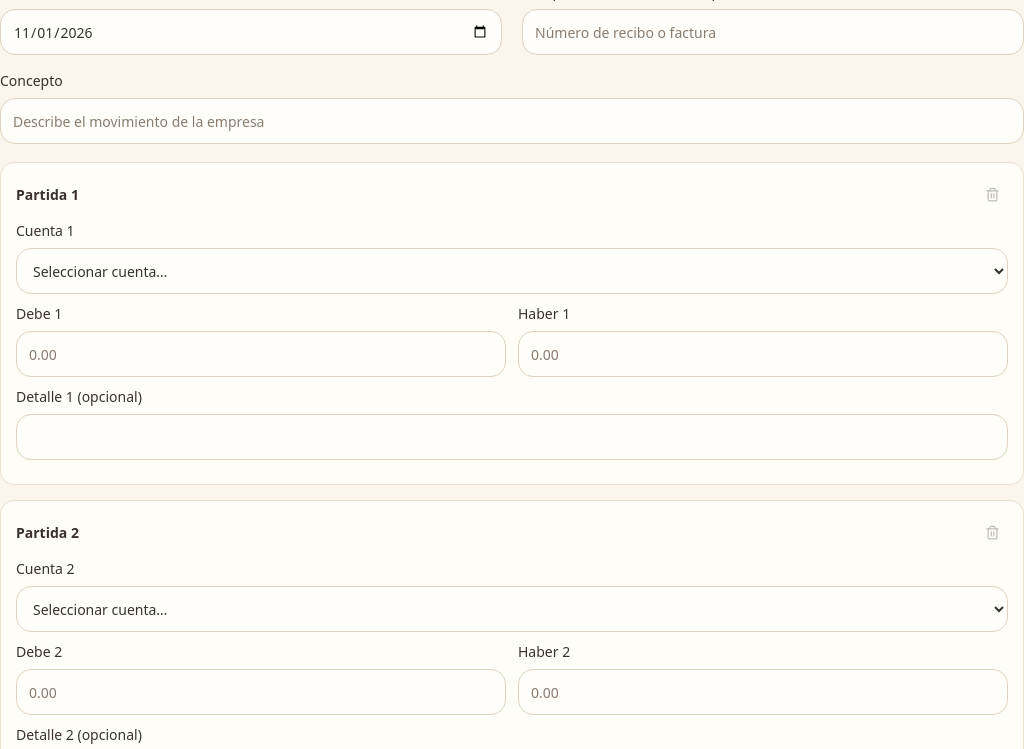
Test: Registro en el libro diario › impide contabilizar partidas descuadradas
The width and height of the screenshot is (1024, 749).
Type "Pago de alquiler" into the field labelled "Concepto".
click(512, 121); type("Pago de alquiler")  # box [0,98,1023,144]
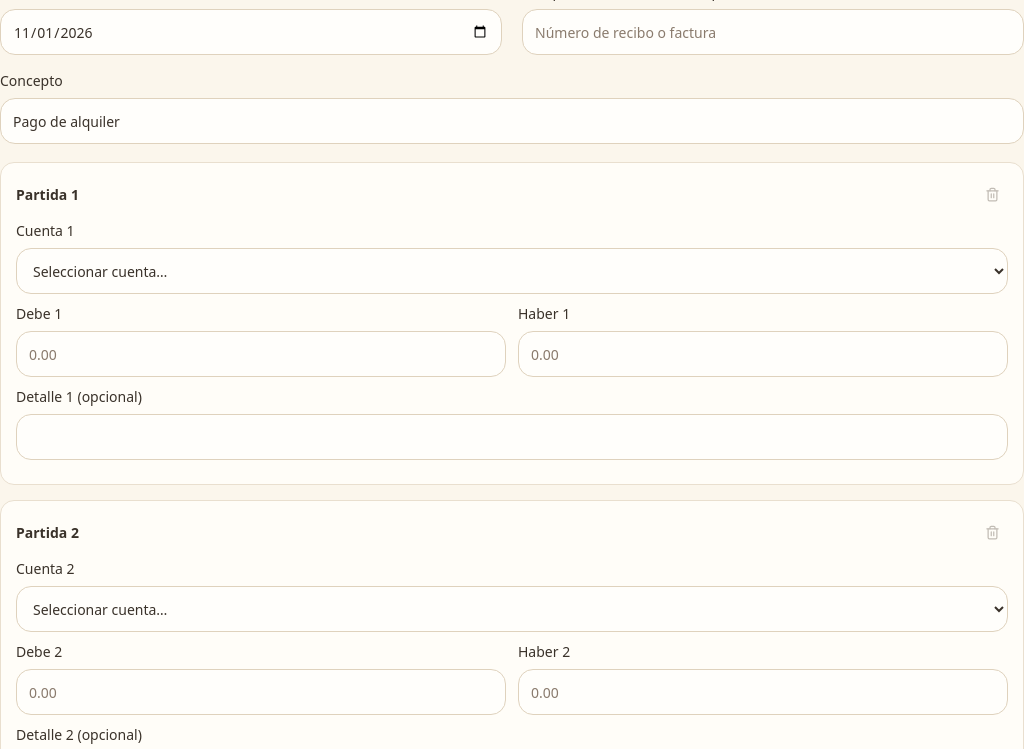
Select "5101 · Alquiler" in the dropdown labelled "Cuenta 1" at {"x": 512, "y": 271}, box [16,248,1008,294]
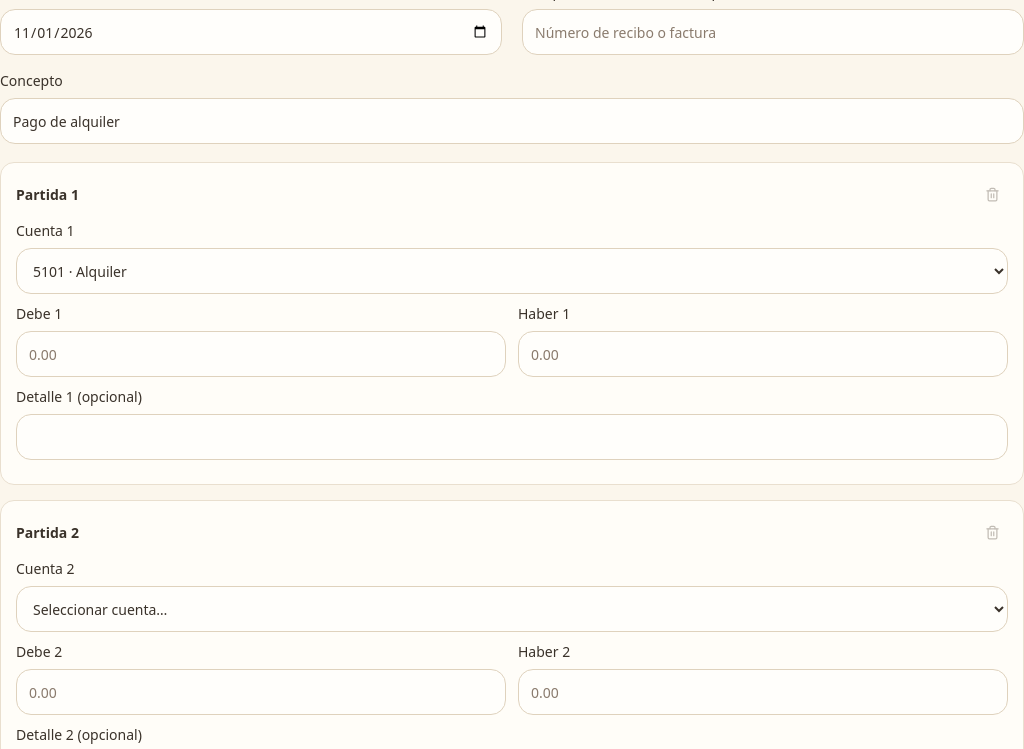
Type "100.00" into the field labelled "Debe 1".
click(261, 354); type("100.00")  # box [16,331,506,377]
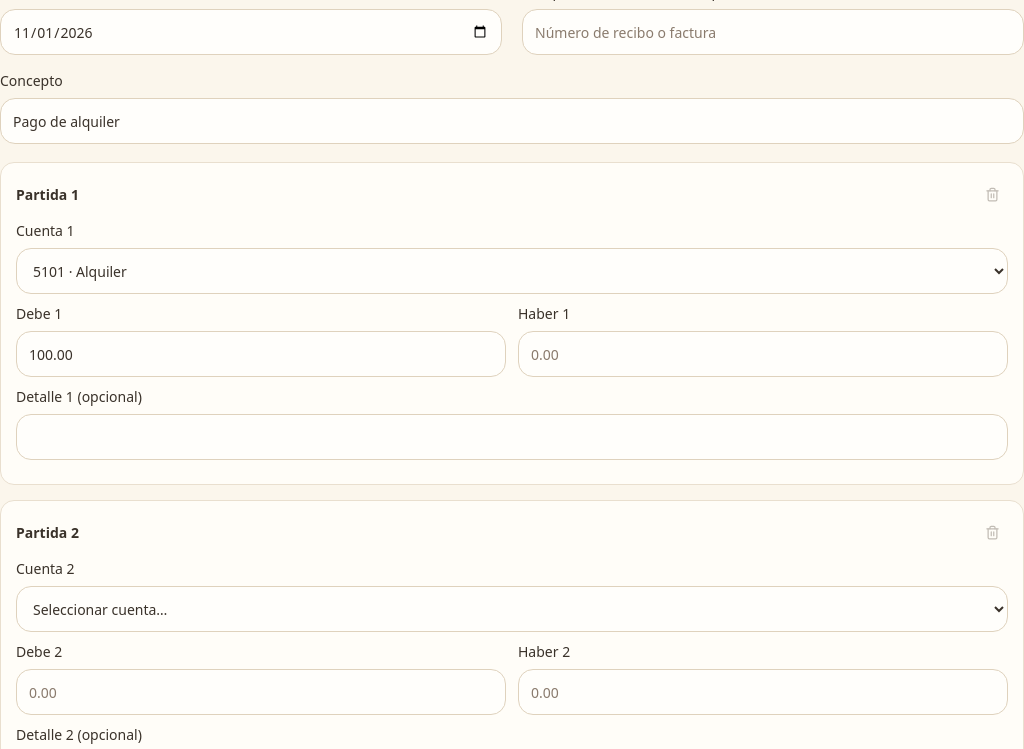
Select "1101 · Caja" in the dropdown labelled "Cuenta 2" at {"x": 512, "y": 609}, box [16,586,1008,632]
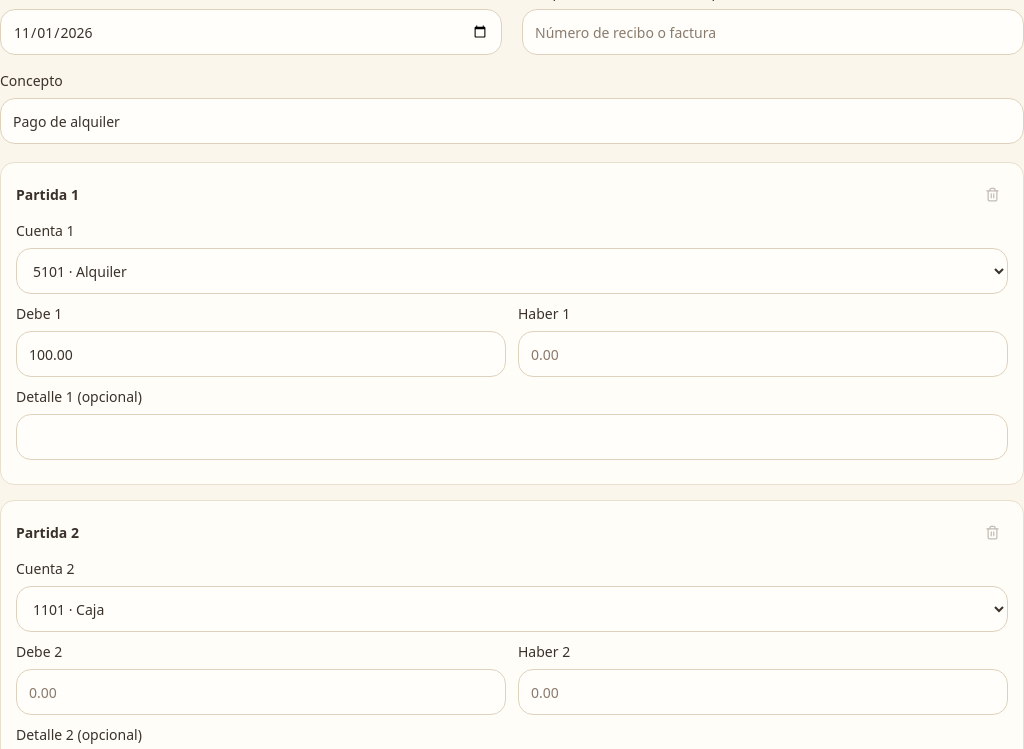
Type "99.99" into the field labelled "Haber 2".
click(763, 692); type("99.99")  # box [518,669,1008,715]
(page scrolled)
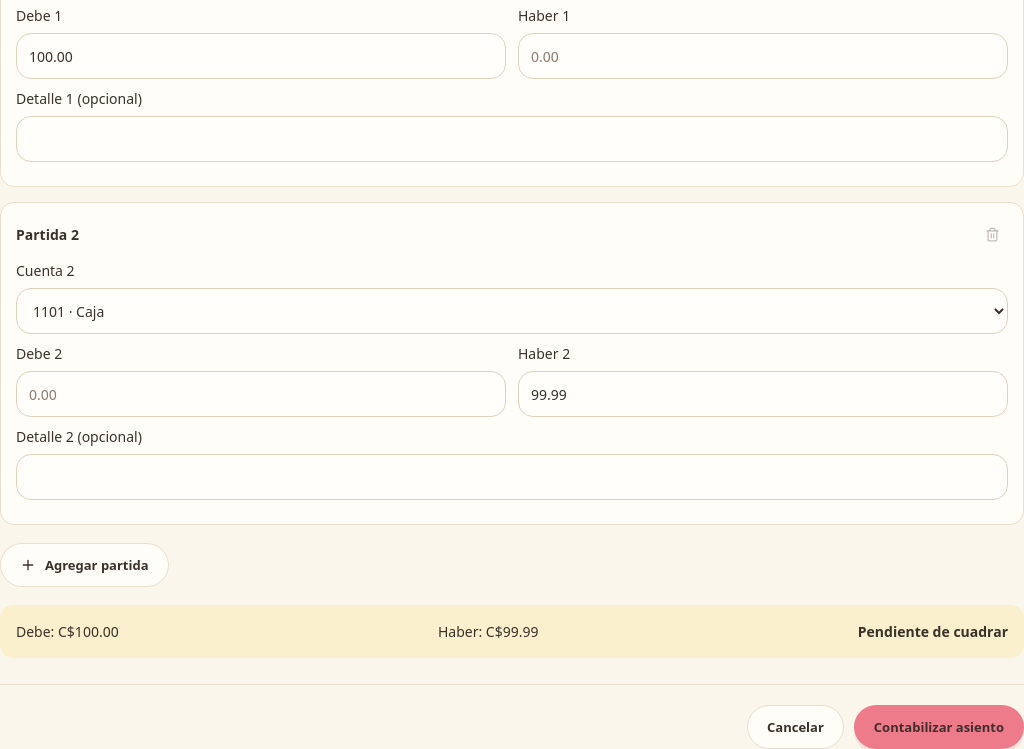
Click the button "Contabilizar asiento".
click(939, 727)  # box [854,705,1023,748]
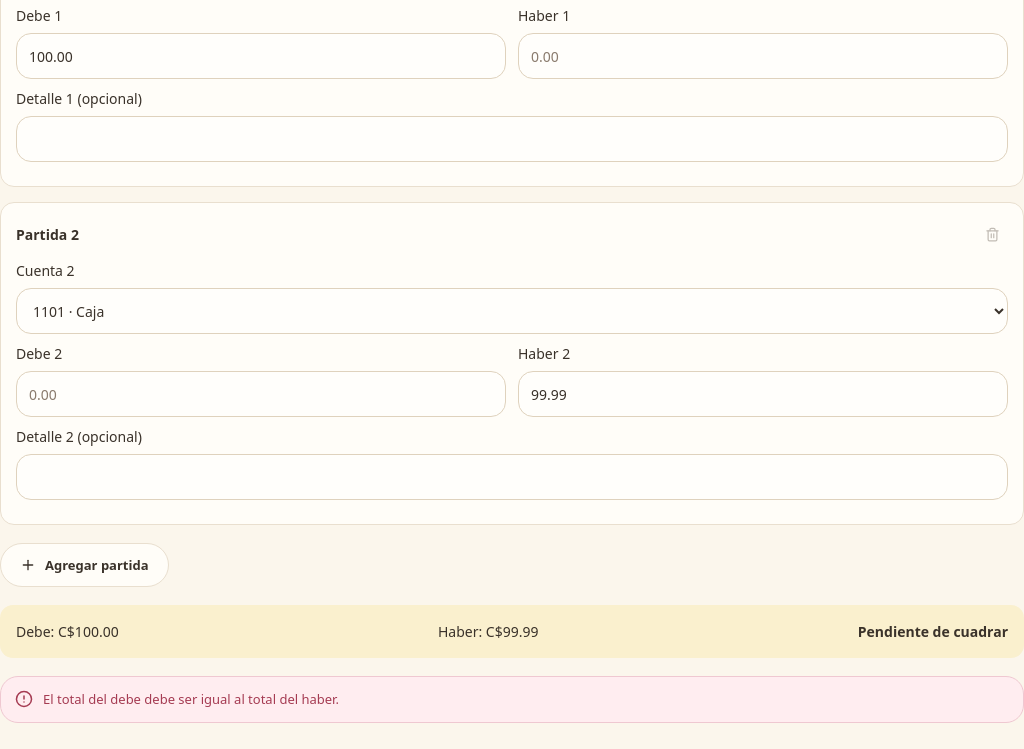
Result: the message reads "El total del debe debe ser igual al total del haber." at [43,690,339,708]
